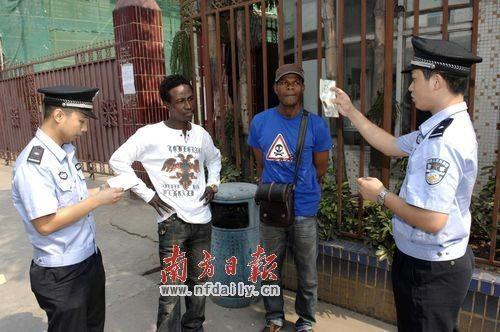no_mask: (408, 30, 484, 110), (36, 81, 99, 145), (157, 75, 197, 123), (272, 61, 305, 112)
